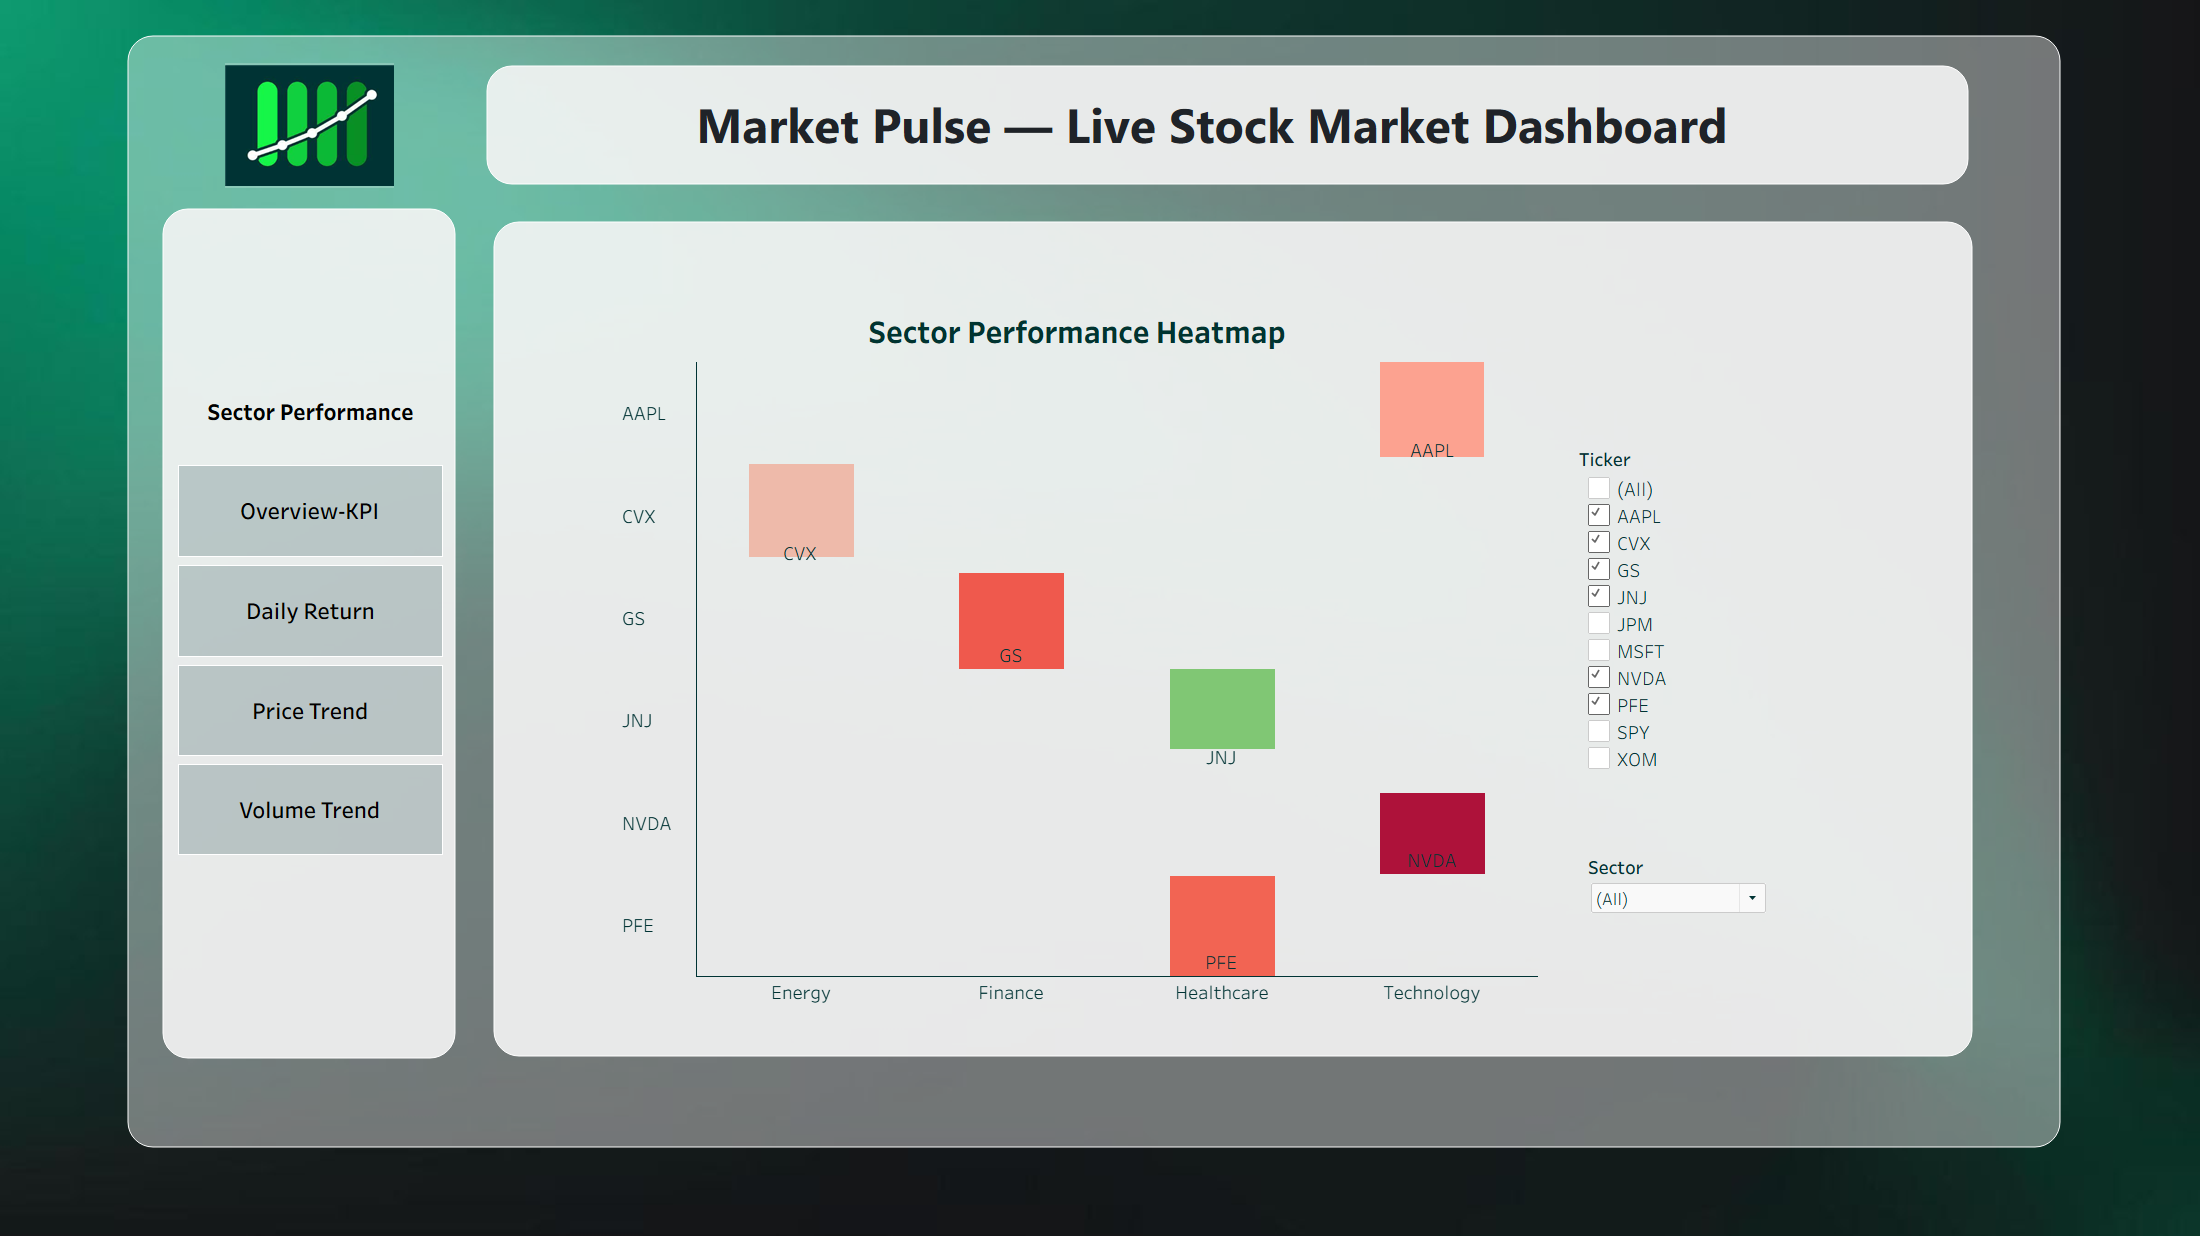

What the dashboard file says about the page in this screenshot:
{"tool":"tableau","page":{"name":"Sector Preformance Dashboard ","canvas":[1000,1000],"units":"permille","ordinal":3},"visuals":[{"type":"image","param":"C:/Users/samor/OneDrive/Desktop/4067d5a5f7cf7e6f15b997b1403af699.jpg","box":[0,0,861.2,863.4]},{"type":"worksheet","title":"OTHER-D","mark":"Automatic","box":[15,18.2,820.5,827]},{"type":"image","param":"C:/Users/samor/AppData/Local/Temp/TableauTemp/0qbzxmv0kf742318mn2140u93hgg/Sheet","box":[87.5,56.1,69,89.3]},{"type":"text","box":[209.1,71.9,531.4,55.3]},{"type":"worksheet","title":"Sector Performance","mark":"Square","rows":["Ticker","Calculation_1926660308652032"],"cols":["Sector"],"box":[241.8,221.2,360.3,467.6]},{"type":"text","box":[69.1,258.2,106.6,66.9]},{"type":"filter","title":"Sector Performance","param":"[federated.1v5bl0h08547lg1gbtx6f1lob0uy].[none:Ticker:nk]","box":[618,315.2,70.7,259.9]},{"type":"dashboard-object","box":[69.1,325.1,106.6,66.9]},{"type":"filter","title":"Sector Performance","param":"[federated.1v5bl0h08547lg1gbtx6f1lob0uy].[none:Sector:nk]","box":[686.1,364.9,70.7,153.2]},{"type":"dashboard-object","box":[69.1,392,106.6,66.9]},{"type":"dashboard-object","box":[69.1,458.9,106.6,66.2]},{"type":"dashboard-object","box":[69.1,525.1,106.6,66.2]}]}

Visuals, with their boxes on the dashboard's canvas, which has no fixed pixel size, in thousandths of its width and height (x1, y1, x2, y2). These are canvas units, not pixel positions in the 2200x1236 screenshot, which may show the page scaled, cropped or inside an application window:
image: x1=0, y1=0, x2=861, y2=863
"OTHER-D" worksheet: x1=15, y1=18, x2=836, y2=845
image: x1=88, y1=56, x2=156, y2=145
text: x1=209, y1=72, x2=740, y2=127
"Sector Performance" worksheet (Square marks): x1=242, y1=221, x2=602, y2=689
text: x1=69, y1=258, x2=176, y2=325
"Sector Performance" filter: x1=618, y1=315, x2=689, y2=575
dashboard-object: x1=69, y1=325, x2=176, y2=392
"Sector Performance" filter: x1=686, y1=365, x2=757, y2=518
dashboard-object: x1=69, y1=392, x2=176, y2=459
dashboard-object: x1=69, y1=459, x2=176, y2=525
dashboard-object: x1=69, y1=525, x2=176, y2=591
